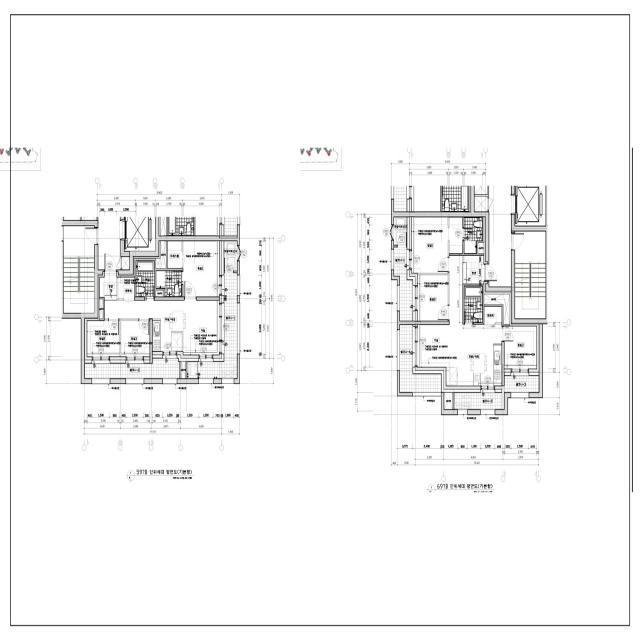space_balconi: (187, 273, 237, 378), (400, 325, 441, 392), (85, 359, 180, 378), (394, 247, 413, 321), (454, 393, 502, 409), (505, 376, 539, 392)
space_bedroom: (183, 241, 219, 297), (412, 217, 448, 273), (504, 326, 539, 369), (418, 275, 448, 321), (85, 321, 120, 356), (121, 321, 150, 356)
space_dressroom: (168, 241, 182, 268)
space_elevator: (511, 186, 546, 226), (124, 217, 155, 251)
space_elevator_hall: (489, 186, 511, 287), (98, 217, 129, 270)
space_front: (464, 256, 484, 284), (98, 272, 117, 300)
space_kitchen: (443, 342, 502, 386), (153, 318, 183, 351)
space_living_room: (418, 256, 502, 367), (105, 301, 219, 358)
space_other: (484, 291, 512, 324), (449, 218, 462, 253), (394, 217, 408, 247), (224, 241, 237, 271), (118, 275, 134, 299), (484, 307, 502, 323), (156, 241, 166, 268), (444, 393, 453, 409), (98, 299, 103, 319), (181, 362, 186, 378), (478, 243, 484, 253), (156, 290, 164, 297)
space_staircase: (515, 232, 546, 318), (64, 226, 94, 313)
space_toilet: (136, 260, 155, 297), (464, 217, 483, 254), (464, 286, 483, 322), (156, 271, 182, 297)
